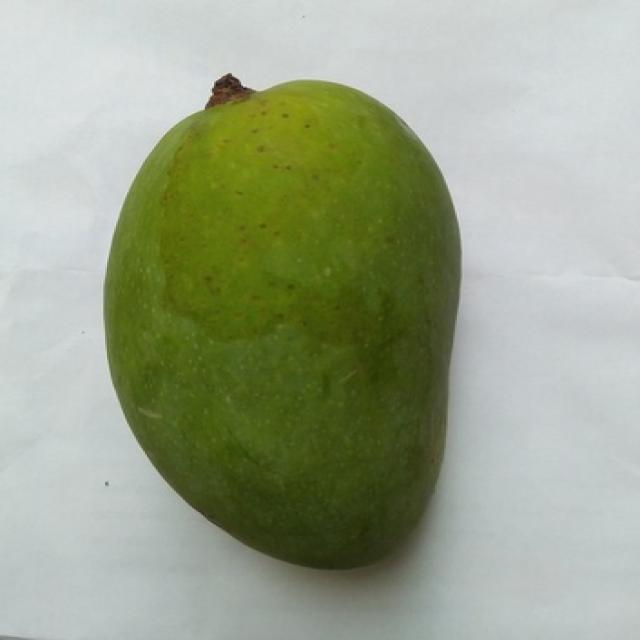Mango: (105, 82, 459, 566)
